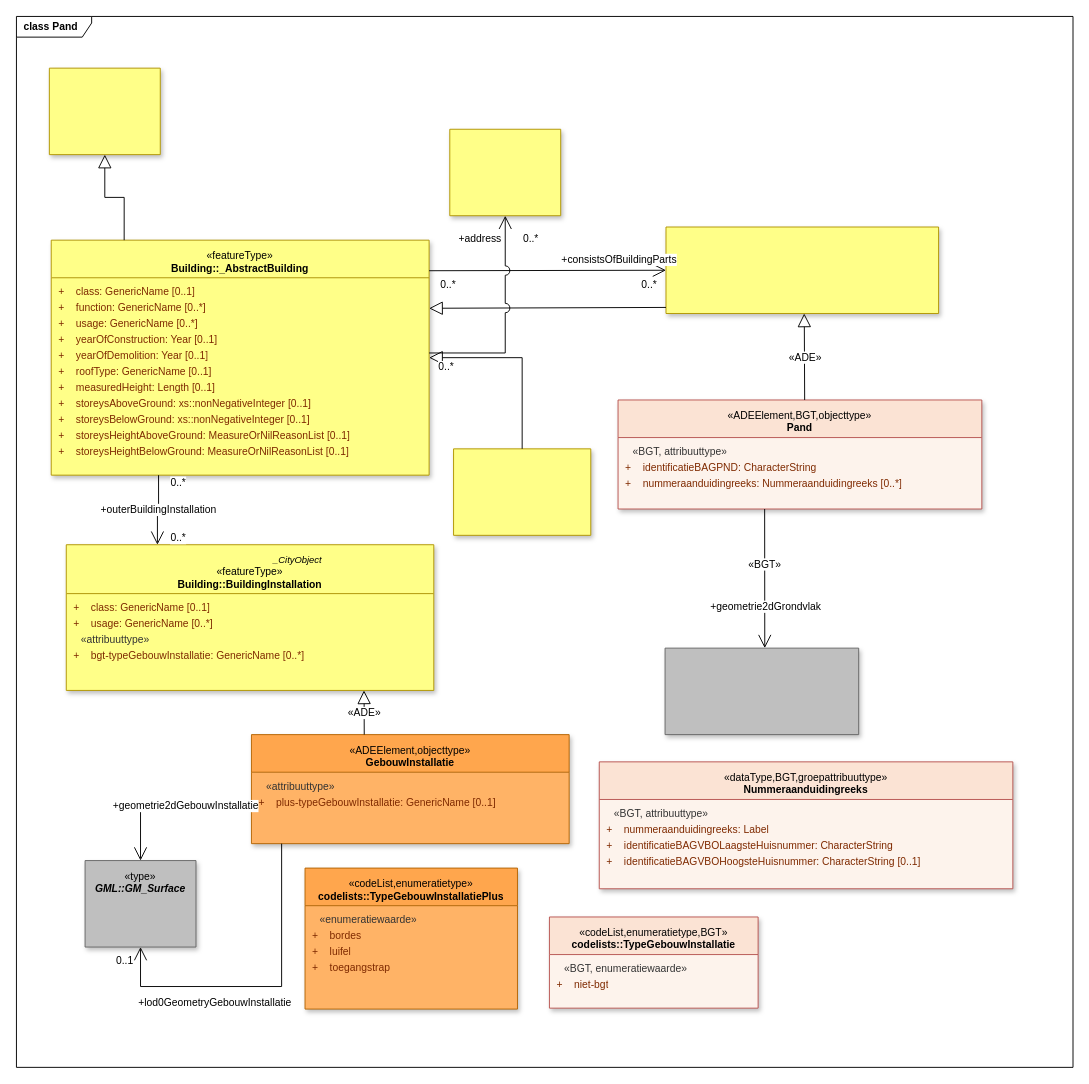
The diagram is 1089 pixels wide and 1084 high, and some of its shapes have lost their labels. The shapes that lost their labels are listed below. From the top down, each one's centre as x and y in pixels, then its label:
At (105,112): "_CityObject «featureType» CityGML Core::_Site".
At (505,173): "_Feature «featureType» CityGML Core:: Address".
At (802,271): "«featureType» Building::BuildingPart".
At (522,493): "«featureType» Building::Building".
At (762,692): "«type» GML::GM_MultiSurface".
